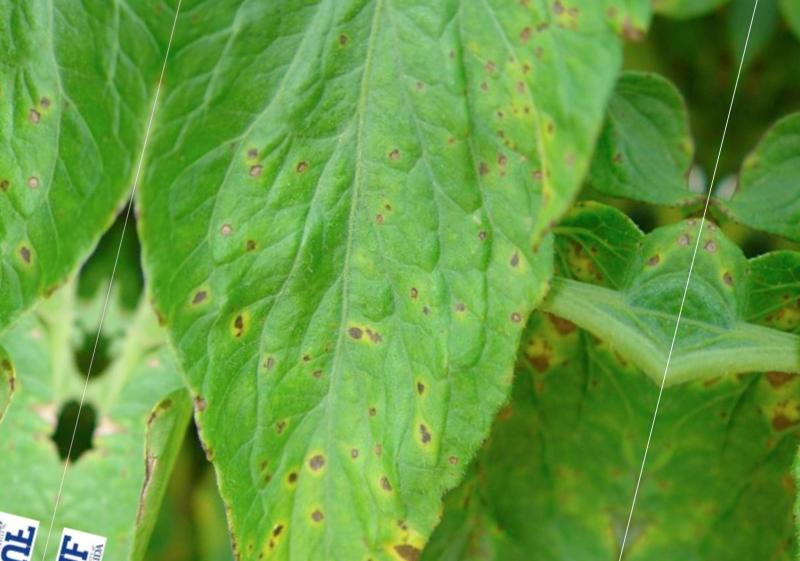Tomato leaf bacterial spot: (56, 0, 682, 561)
